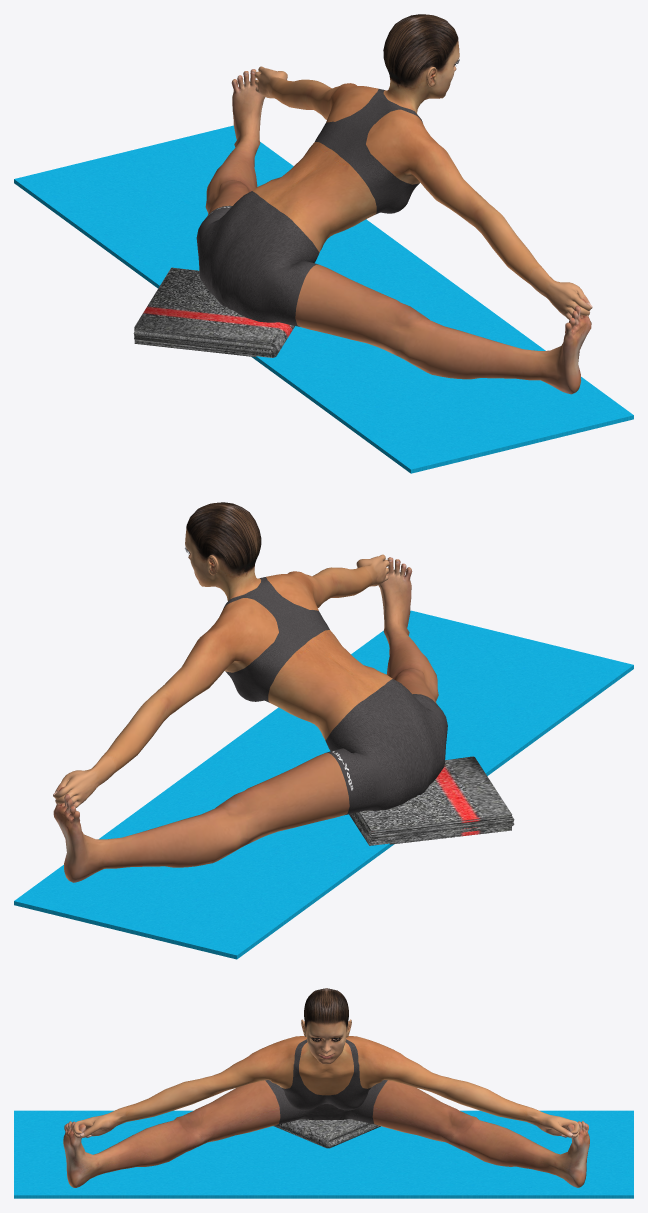
Rendered from upavistha_konasana.glb.
3 renders of one model, top to bottom at view 1: azimuth 30°, elevation 25°; view 2: azimuth 150°, elevation 25°; view 3: azimuth 270°, elevation 25°, orthographic. The views are drawn at different scales.
Parts seen in each view (by area): view 1: FemaleSkin-material, mat_001-material, Blanket_001-material; view 2: FemaleSkin-material, mat_001-material, Blanket_001-material; view 3: FemaleSkin-material, mat_001-material, Blanket_001-material.
Part boxes in pixels (bbox=[...]): FemaleSkin-material: bbox=[196, 14, 592, 394]; mat_001-material: bbox=[14, 125, 633, 473]; Blanket_001-material: bbox=[133, 267, 294, 357]; FemaleSkin-material: bbox=[53, 502, 447, 882]; mat_001-material: bbox=[14, 610, 633, 959]; Blanket_001-material: bbox=[349, 756, 514, 845]; FemaleSkin-material: bbox=[63, 988, 589, 1187]; mat_001-material: bbox=[14, 1110, 633, 1198]; Blanket_001-material: bbox=[273, 1119, 380, 1148].
Size of the model in its own units: 2.9 by 2.22 by 6.17.
Materials: 3 (3 with a texture image).
